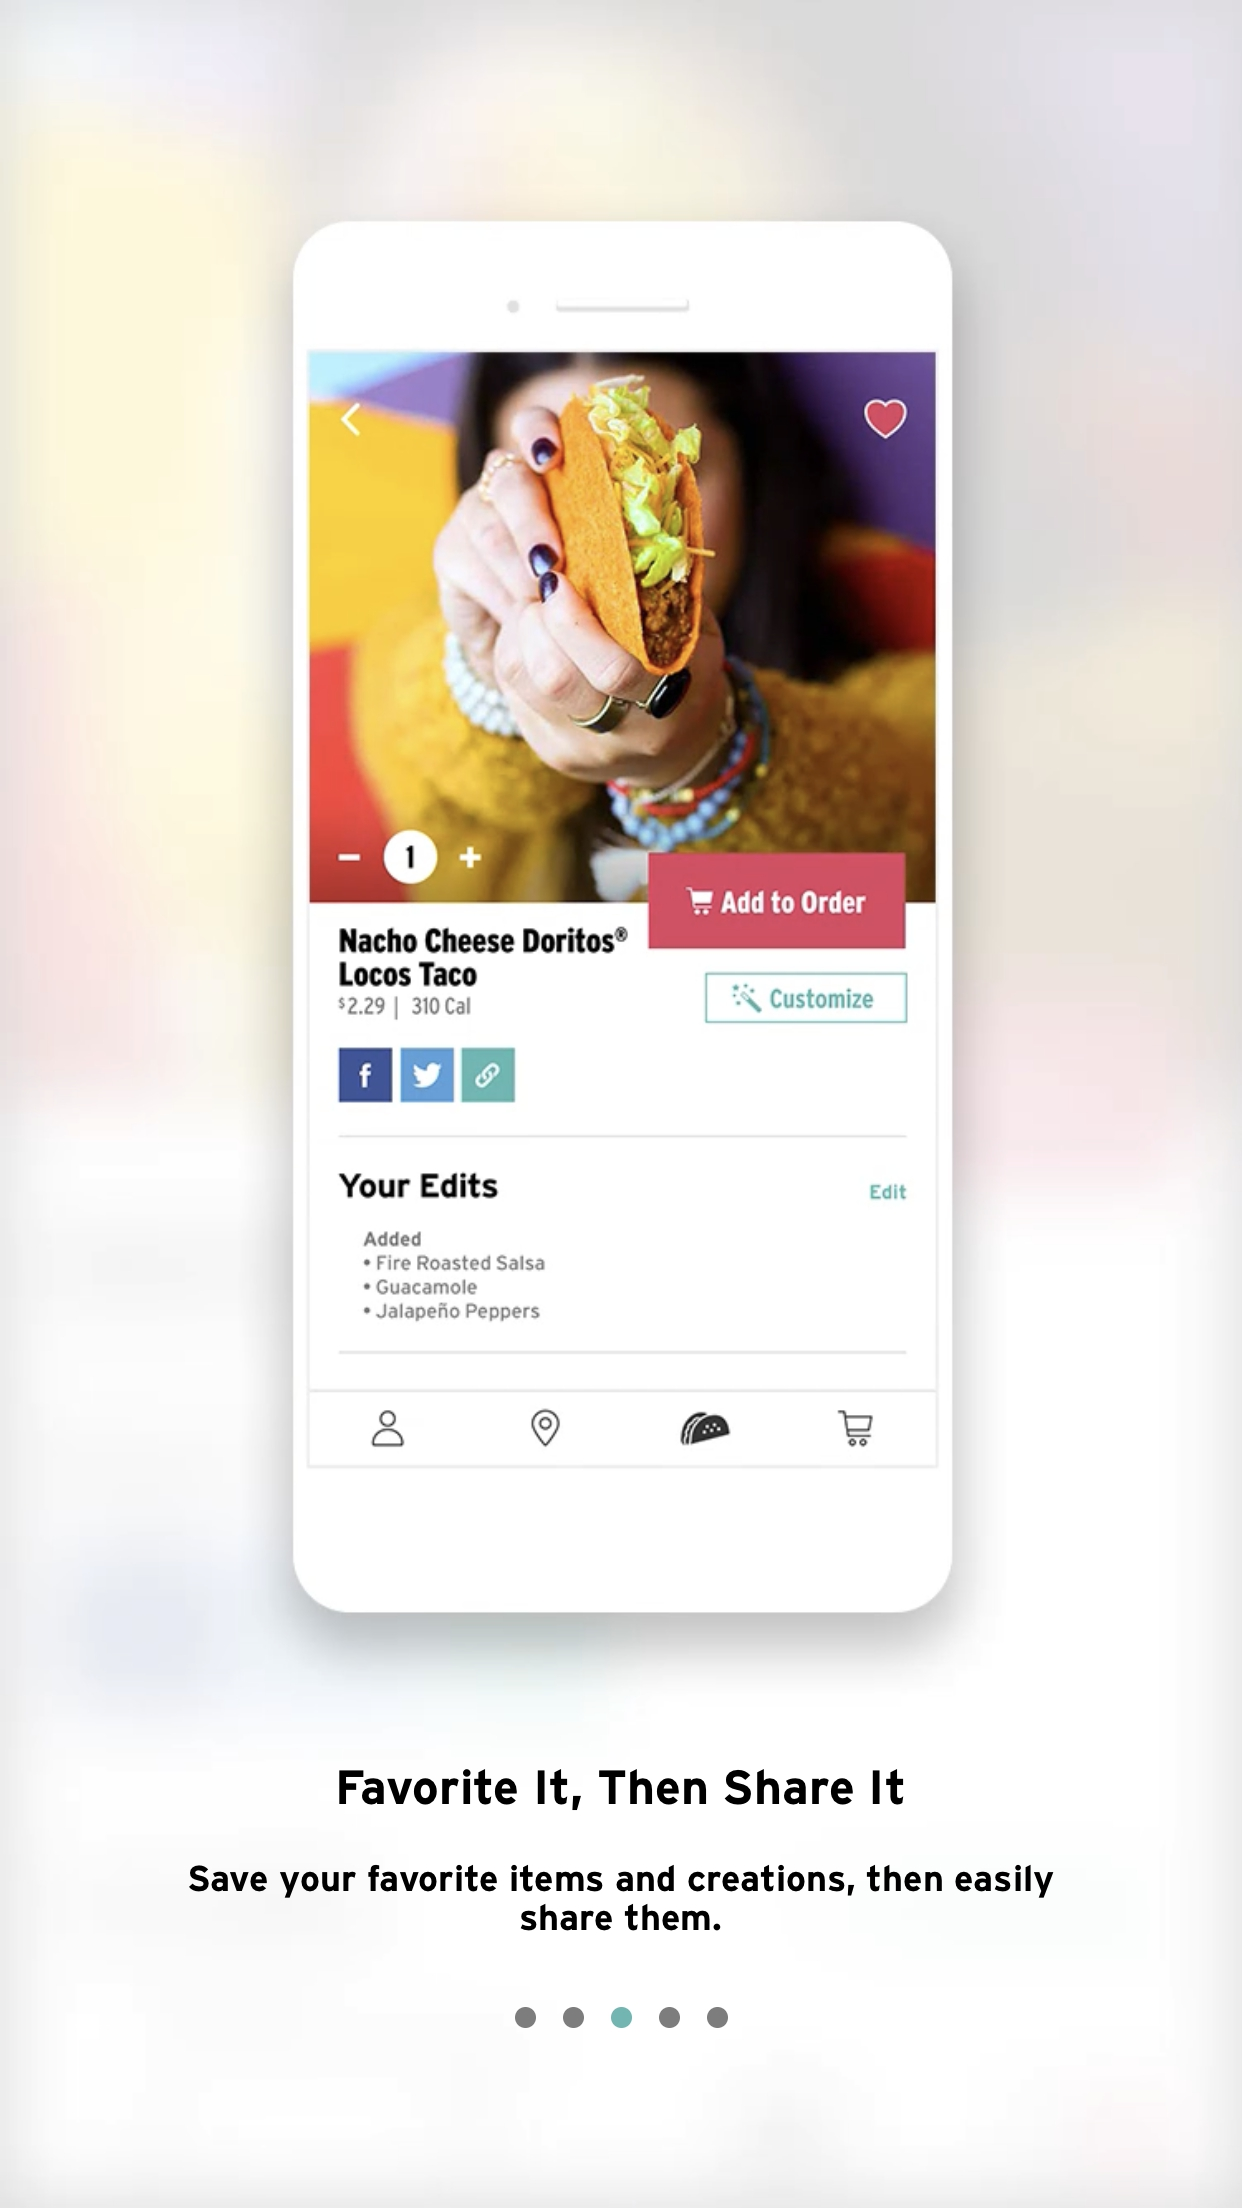Image: (293, 221, 952, 1614)
PageIndicator: (516, 2006, 729, 2029)
Text: (190, 1864, 1054, 1932), (340, 1767, 905, 1811)
